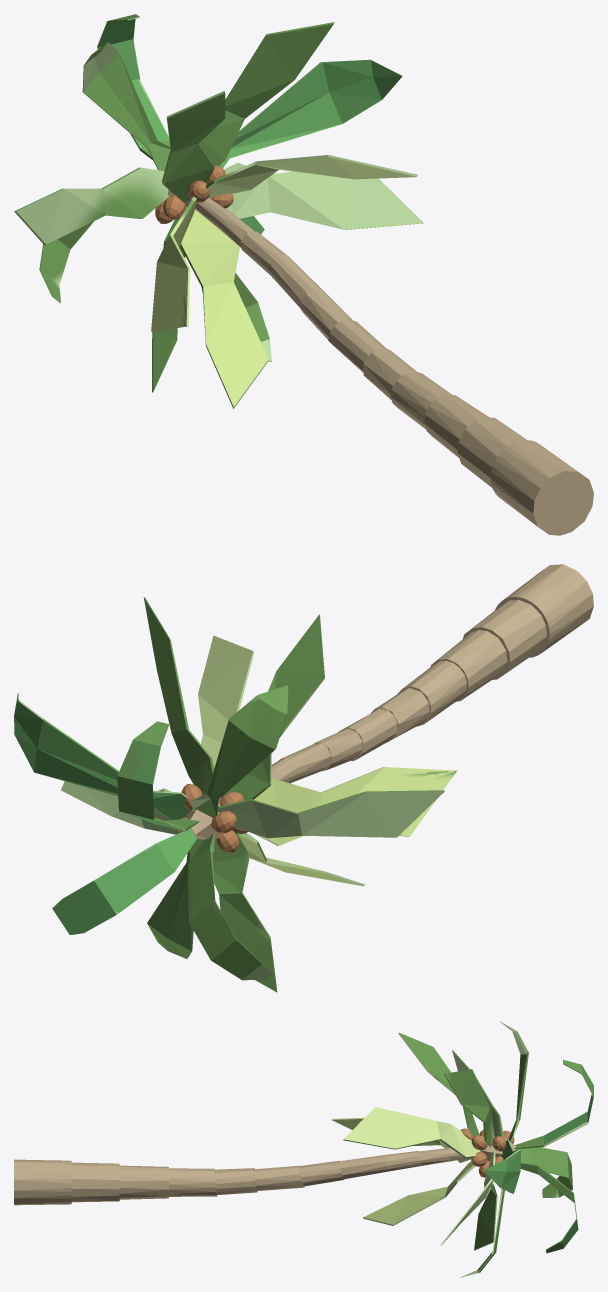
File: palm_coco_brush.dae
3 views of the same model, one above another, from view 1: azimuth 30°, elevation 25°; view 2: azimuth 150°, elevation 25°; view 3: azimuth 270°, elevation 25° (orthographic). The views are drawn at different scales.
Parts seen in each view (by area): view 1: branch; view 2: branch; view 3: branch.
Part boxes in pixels (x1=…): branch: x1=14, y1=14, x2=593, y2=535; branch: x1=14, y1=564, x2=593, y2=992; branch: x1=14, y1=1021, x2=593, y2=1277.
Bounding box in the file's own units: 9.12 × 16.98 × 7.36.
Materials: 2 (2 with a texture image).
